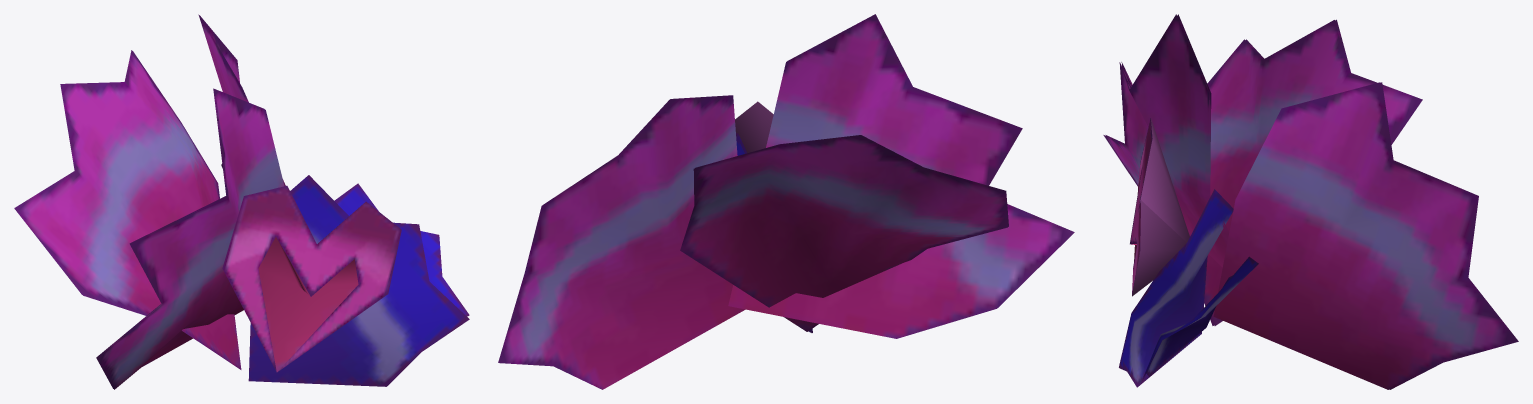
Rendered from helm5016.fbx.
3 views of the same model, side by side, from view 1: azimuth 30°, elevation 25°; view 2: azimuth 150°, elevation 25°; view 3: azimuth 270°, elevation 25° (orthographic). The views are drawn at different scales.
Parts seen in each view (by area): view 1: helm_3016; view 2: helm_3016; view 3: helm_3016.
Part boxes in pixels (x1=…): helm_3016: x1=14, y1=14, x2=469, y2=389; helm_3016: x1=498, y1=14, x2=1074, y2=389; helm_3016: x1=1103, y1=14, x2=1518, y2=389.
Bounding box in the file's own units: 0.1946 × 0.1491 × 0.1843.
